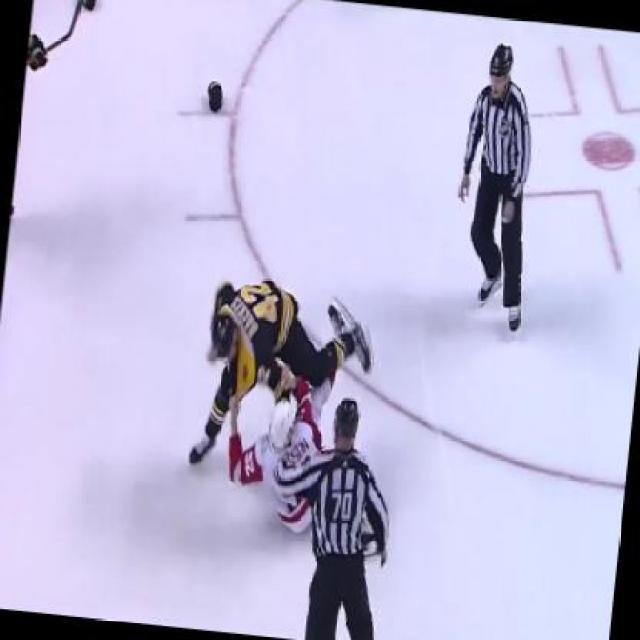fight: (187, 276, 373, 526)
non-fight: (434, 38, 554, 344)
